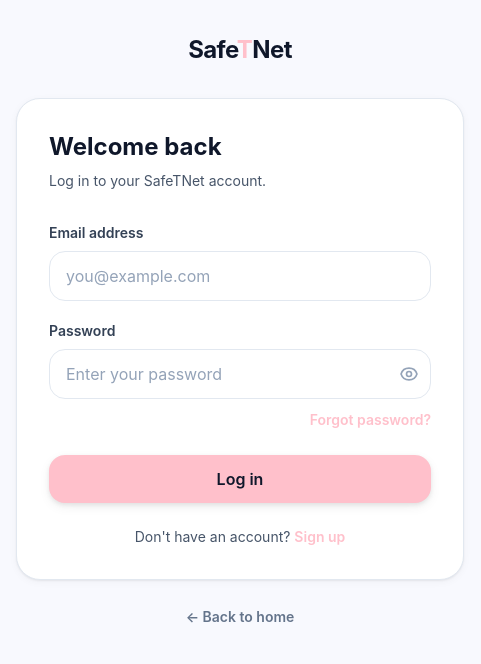
it: LoginPage › shows inline error for invalid email format
Type "notanemail" into the field labelled "Email address" at (240, 276), box [49,251,431,301]
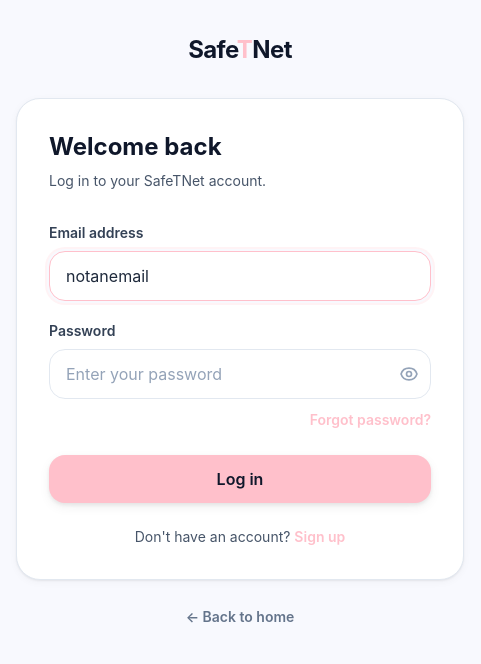
Type "somepassword" into the password field labelled "Password" at (240, 374), box [49,349,431,399]
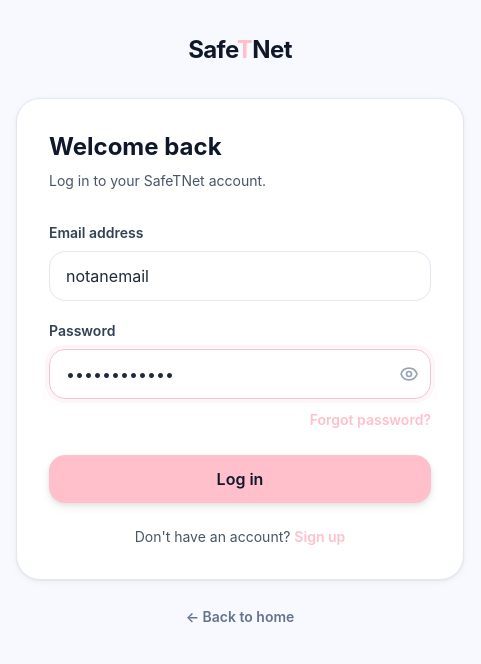
Click the button "Log in" at (240, 479), box [49,455,431,503]
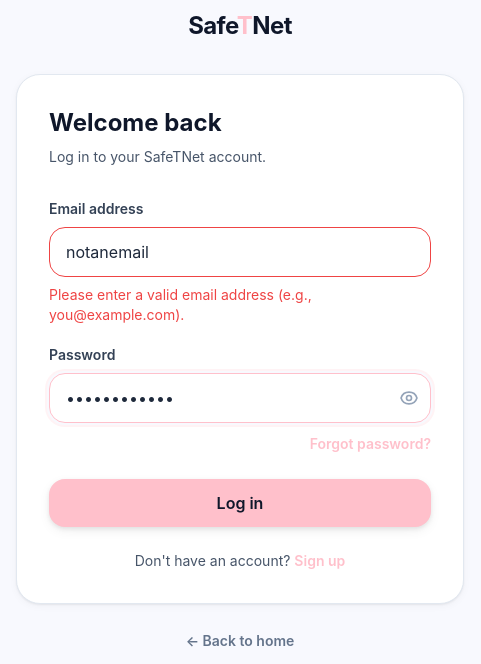
Expected: the text "Please enter a valid email address (e.g., you@example.com)." is shown, [49,286,312,323]
